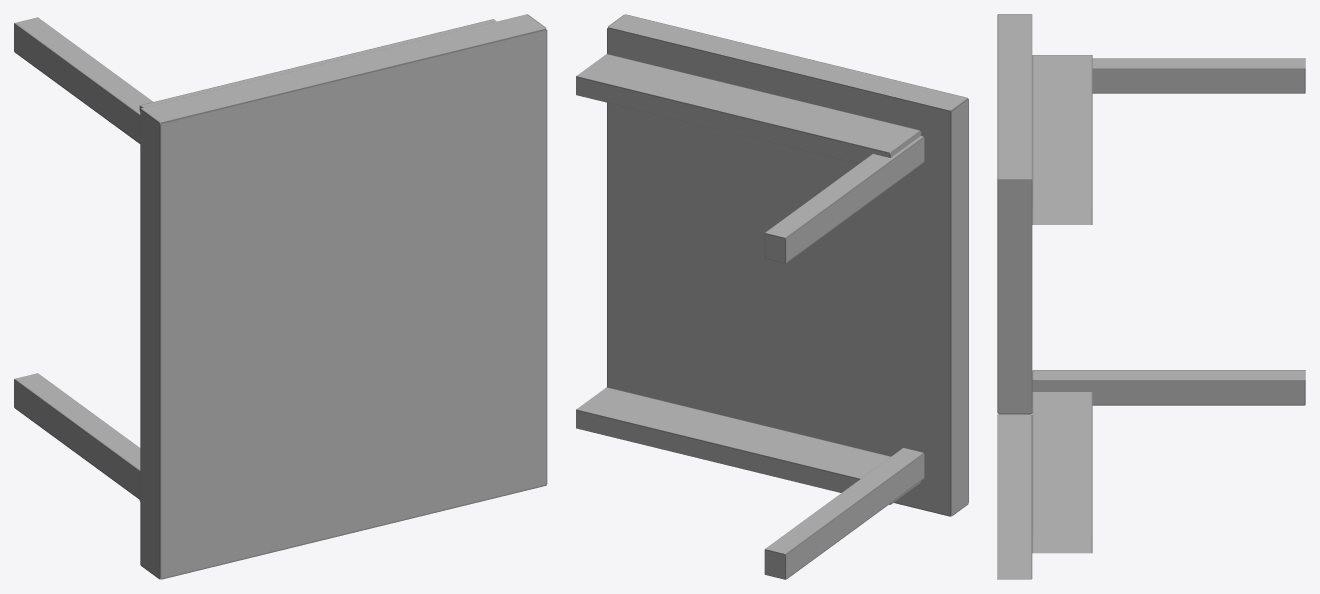
The model's file is pz_table_tables_high_01_large_smooth_0_0.obj.
3 renders of one model, left to right at view 1: azimuth 30°, elevation 25°; view 2: azimuth 150°, elevation 25°; view 3: azimuth 270°, elevation 25°, orthographic. The views are drawn at different scales.
Bounding box in the file's own units: 0.8438 × 0.95 × 0.6634.
Materials: 1 (1 with a texture image).
